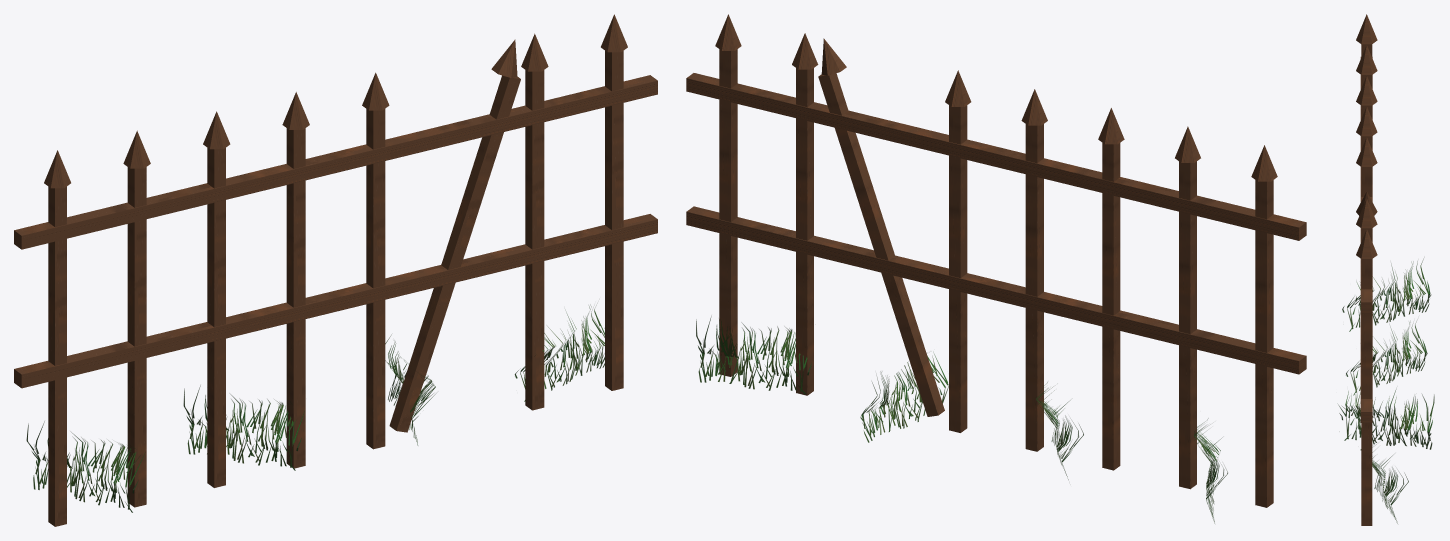
File: nghia-dia-hang-rao-sat-gi.glb
3 views of the same model, side by side, from view 1: azimuth 30°, elevation 25°; view 2: azimuth 150°, elevation 25°; view 3: azimuth 270°, elevation 25° (orthographic). The views are drawn at different scales.
Visible parts, largest first — view 1: nghia-dia-hang-rao-sat-gi; view 2: nghia-dia-hang-rao-sat-gi; view 3: nghia-dia-hang-rao-sat-gi.
Boxes of the visible parts, x1,y1,x2,y2 form: nghia-dia-hang-rao-sat-gi: (14, 14, 657, 526); nghia-dia-hang-rao-sat-gi: (686, 14, 1306, 523); nghia-dia-hang-rao-sat-gi: (1338, 14, 1434, 525).
Size of the model in its own units: 2.4 by 1.34 by 0.4148.
2 materials, 2 textured.
